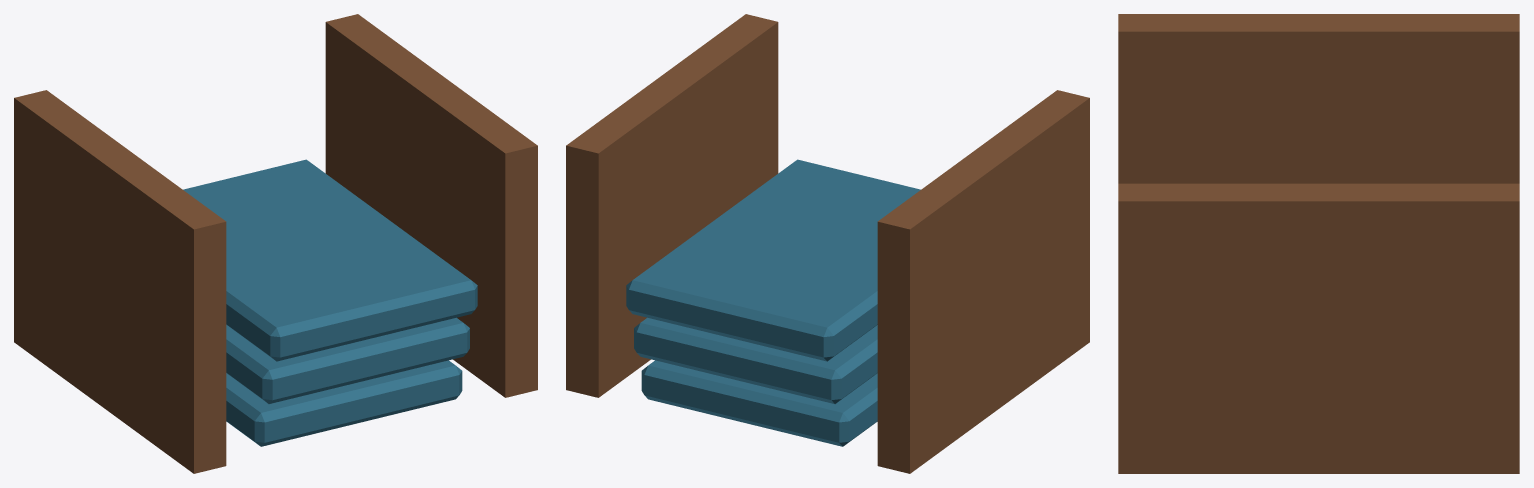
File: set_magazine_rack.glb
The picture shows the model from 3 angles, left to right: view 1: azimuth 30°, elevation 25°; view 2: azimuth 150°, elevation 25°; view 3: azimuth 270°, elevation 25°; orthographic projection. The views are drawn at different scales.
Visible parts, largest first — view 1: set_magazine_rack; view 2: set_magazine_rack; view 3: set_magazine_rack.
Part boxes in pixels (box(x1,y1,x2,y2)): set_magazine_rack: box(14, 14, 537, 473); set_magazine_rack: box(566, 14, 1089, 473); set_magazine_rack: box(1118, 14, 1519, 473).
Bounding box in the file's own units: 0.265 × 0.18 × 0.24.
